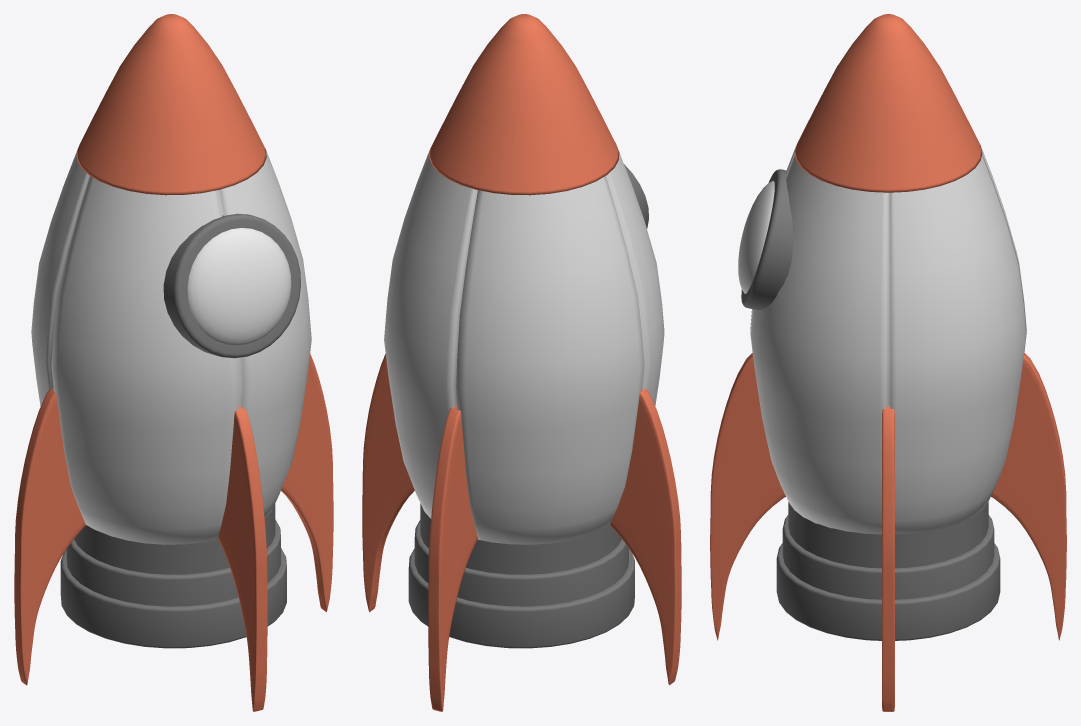
Rendered from Toy_Rocket.glb.
The picture shows the model from 3 angles, left to right: view 1: azimuth 30°, elevation 25°; view 2: azimuth 150°, elevation 25°; view 3: azimuth 270°, elevation 25°; orthographic projection.
Parts seen in each view (by area): view 1: Body, Wings, Tip, Engine, Window.001, Window; view 2: Body, Wings, Tip, Engine; view 3: Body, Wings, Tip, Engine, Window, Window.001.
Boxes of the visible parts, x1,y1,x2,y2 form: Body: [31, 150, 311, 544]; Wings: [14, 354, 333, 711]; Tip: [76, 14, 266, 195]; Engine: [60, 504, 286, 648]; Window.001: [187, 228, 291, 345]; Window: [163, 213, 300, 358]; Body: [384, 150, 664, 544]; Wings: [362, 354, 681, 711]; Tip: [429, 14, 619, 195]; Engine: [408, 503, 634, 648]; Body: [750, 147, 1026, 534]; Wings: [710, 353, 1066, 711]; Tip: [794, 14, 982, 192]; Engine: [776, 502, 1000, 640]; Window: [741, 169, 792, 310]; Window.001: [738, 181, 774, 293].
Bounding box in the file's own units: 1.63 × 3.12 × 1.63.
